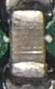Capacitor: (9, 10, 47, 79)
